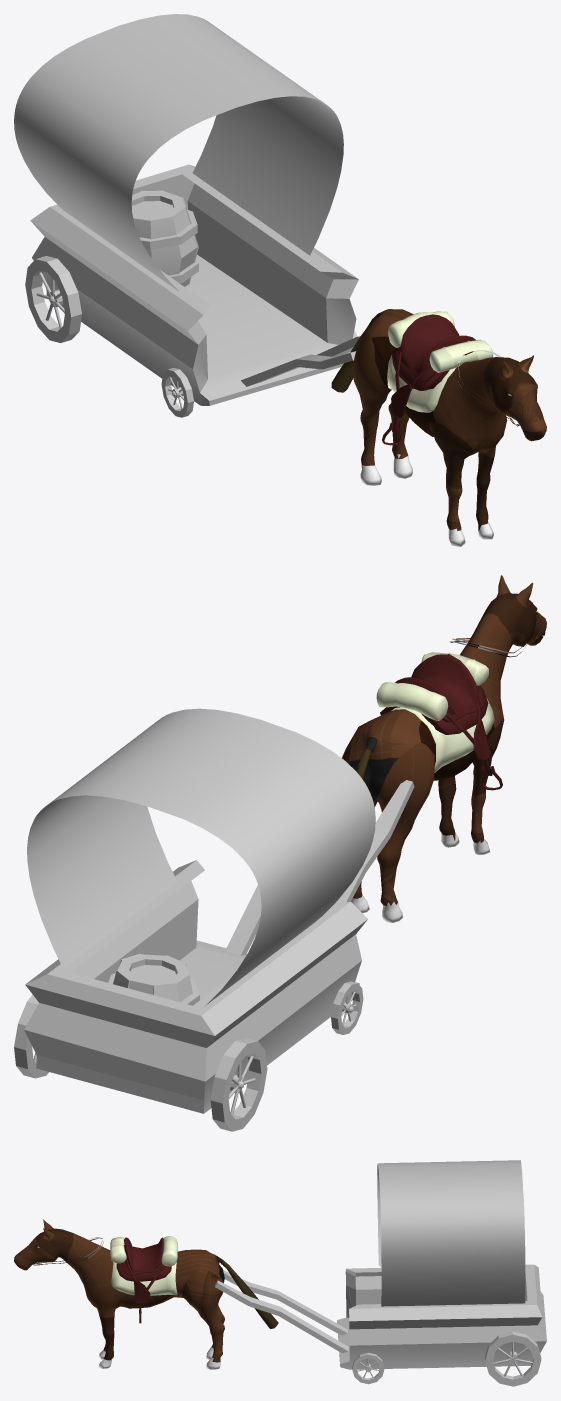
The model's file is horse-wagon.obj.
3 views of the same model, one above another, from view 1: azimuth 30°, elevation 25°; view 2: azimuth 150°, elevation 25°; view 3: azimuth 270°, elevation 25° (orthographic). The views are drawn at different scales.
Parts seen in each view (by area): view 1: Default, horse_body1Shape, horse_saddleShape, blanketsShape; view 2: Default, horse_body1Shape, horse_saddleShape, blanketsShape; view 3: Default, horse_body1Shape, horse_saddleShape, blanketsShape.
Part boxes in pixels (x1,y1,x2,y2): Default: [14, 14, 360, 417]; horse_body1Shape: [331, 309, 546, 546]; horse_saddleShape: [382, 314, 475, 445]; blanketsShape: [387, 311, 492, 412]; Default: [14, 708, 414, 1131]; horse_body1Shape: [342, 575, 546, 922]; horse_saddleShape: [380, 654, 502, 790]; blanketsShape: [376, 652, 494, 772]; Default: [214, 1160, 546, 1386]; horse_body1Shape: [14, 1219, 278, 1369]; horse_saddleShape: [116, 1237, 171, 1323]; blanketsShape: [110, 1236, 178, 1295].
Size of the model in its own units: 2.68 by 3.35 by 8.72.
